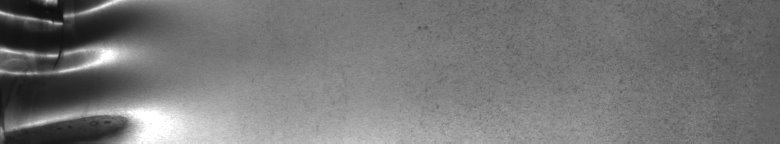ke: (4, 4, 128, 136)
